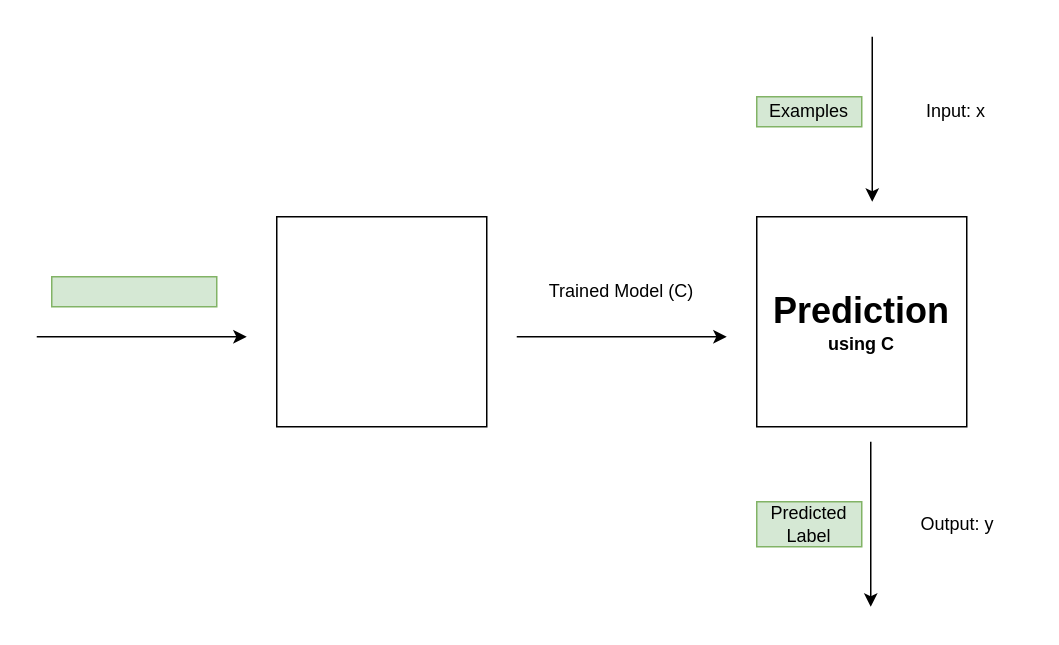
Image size: 1059x645. Some labels were removed from this diagram. Each missing label, with the centre of its shape:
"Algorithm" goes at (x=381, y=321).
"Training Data" goes at (x=133, y=291).
